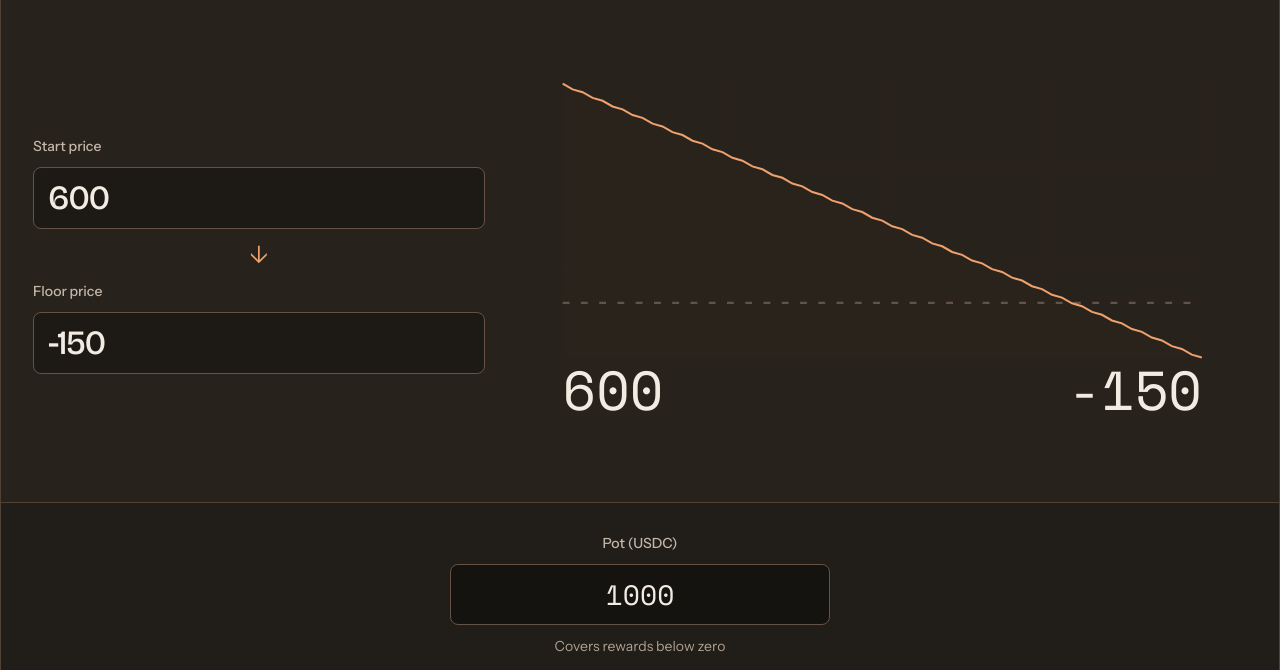
Test case: read-only instrument drafts › updates the Fade curve from entered terms without submitting a transaction
This screenshot has width=1280, height=670.
Replace the text in the field labelled "Start price" with "100" at x=259, y=198, box x1=33 y1=167 x2=484 y2=229
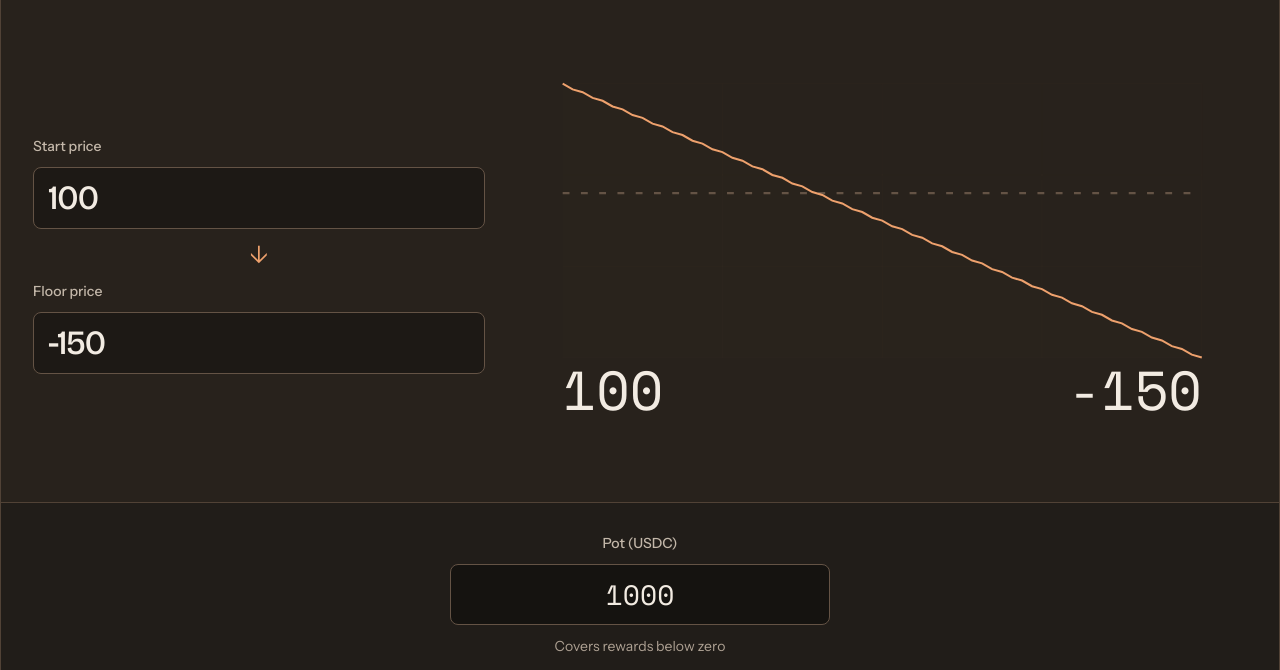
Replace the text in the field labelled "Floor price" with "-25" at x=259, y=343, box x1=33 y1=312 x2=484 y2=374
(page scrolled)
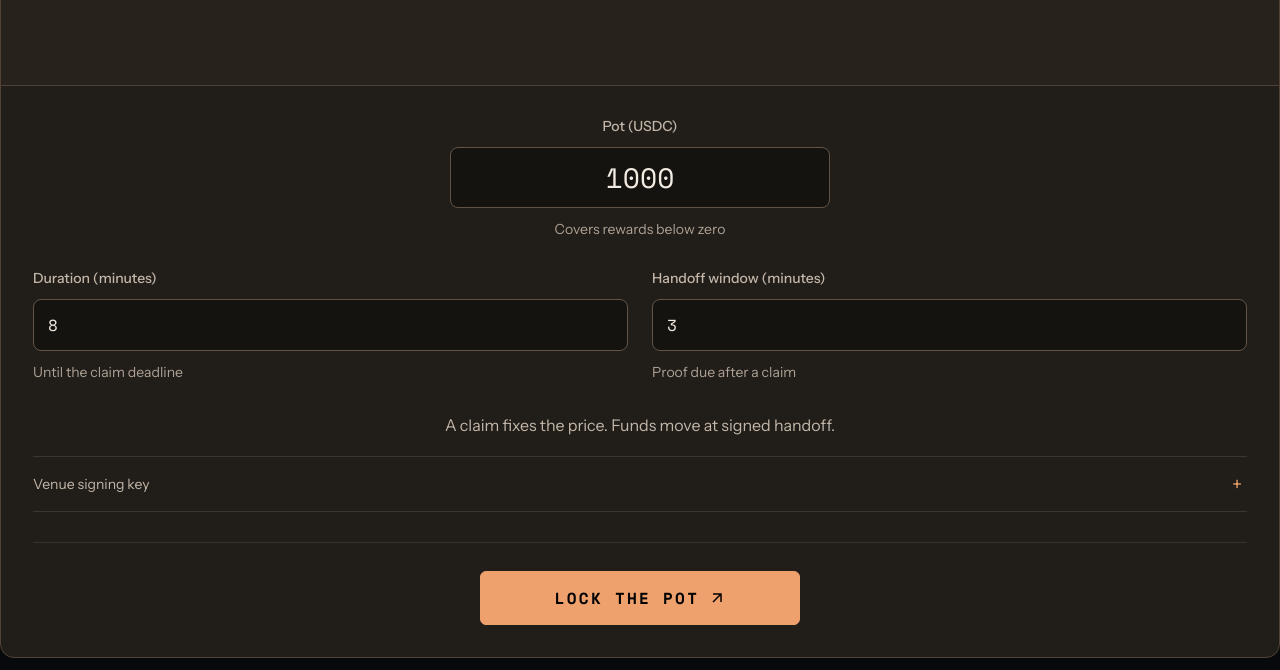
Replace the text in the field labelled "Duration (minutes) Until the claim deadline" with "10" at x=330, y=325, box x1=33 y1=299 x2=628 y2=351
(page scrolled)
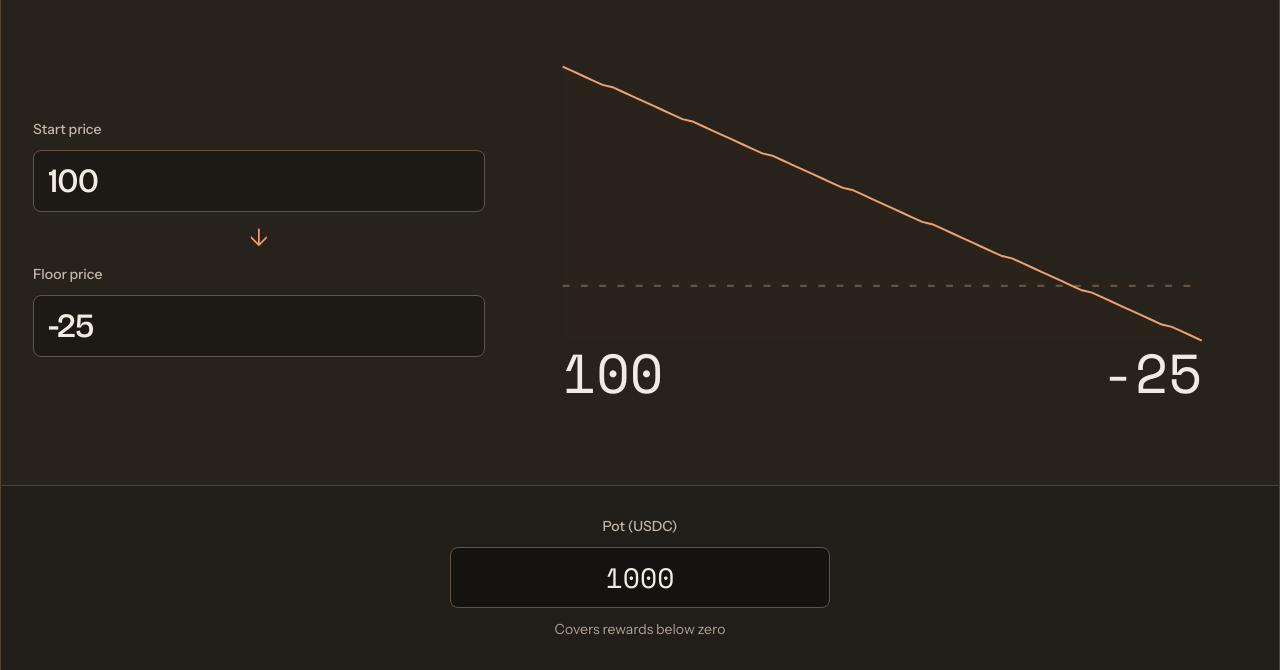
Expected: the picture named "Draft price curve from 100 to -25 USDC over 120 ledgers" is shown, x1=516 y1=21 x2=1247 y2=455
Replace the text in the field labelled "Floor price" with "150" at x=259, y=326, box x1=33 y1=295 x2=484 y2=357
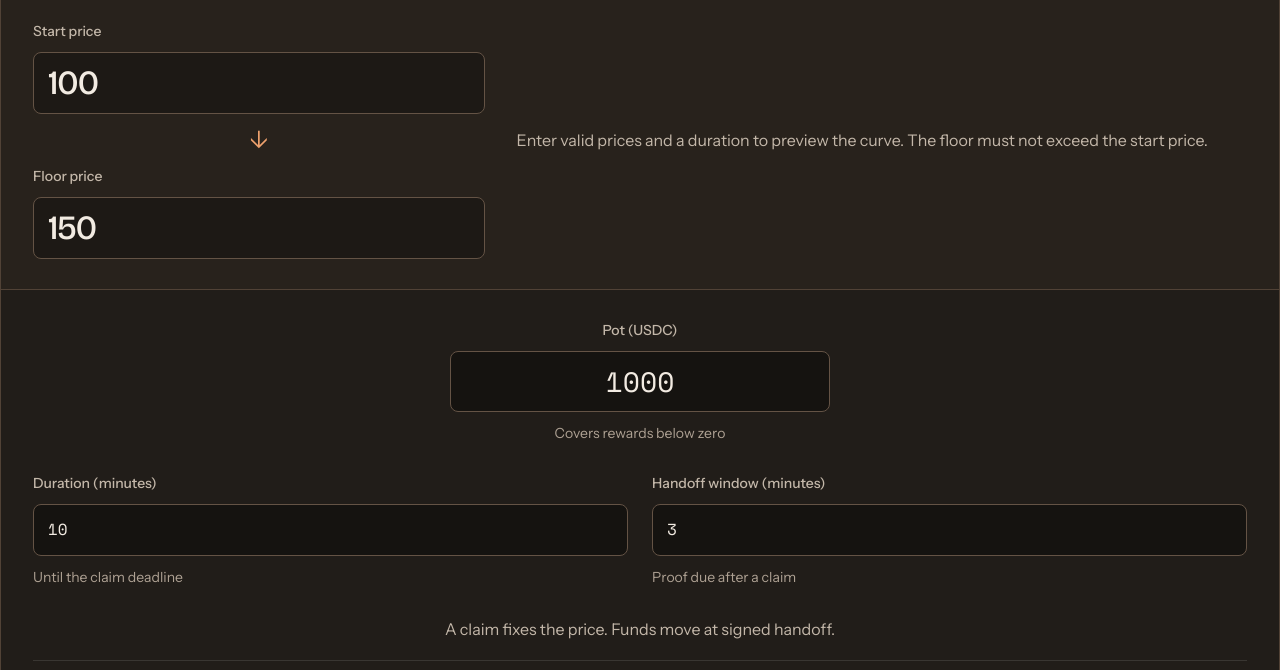
Expected: the text "floor must not exceed the start price" is shown, x1=516 y1=130 x2=1208 y2=150
